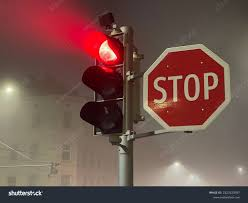stop sign: (142, 45, 229, 131)
